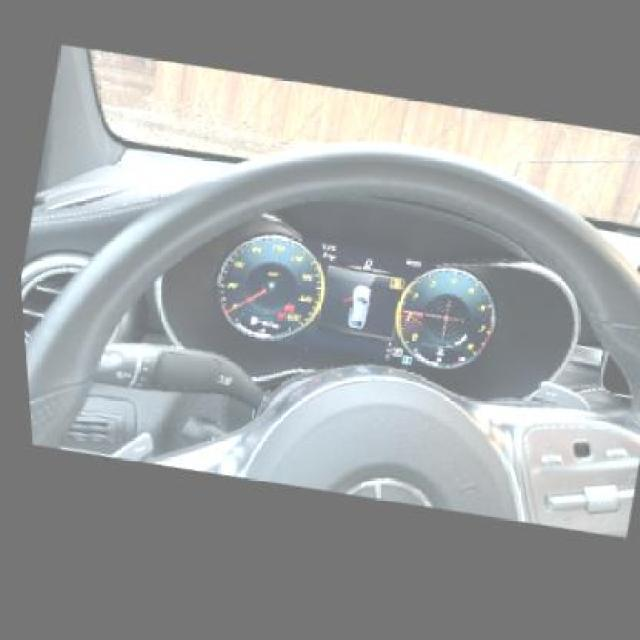Engine cooling system: (428, 354, 438, 366)
